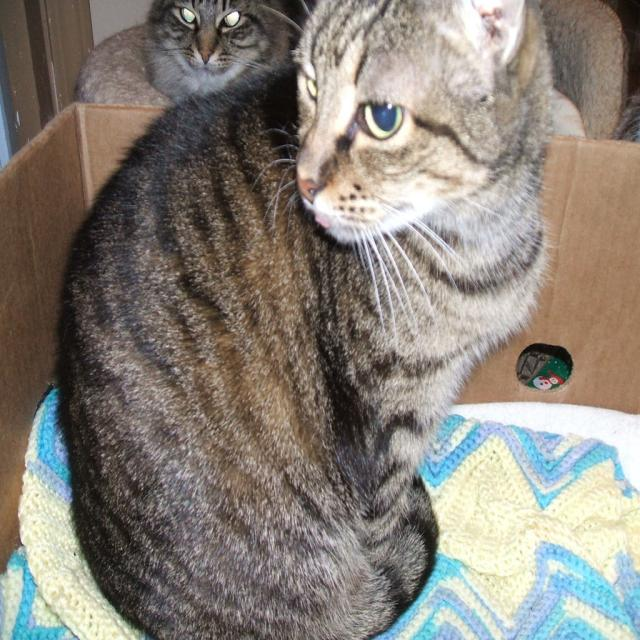Cat: (51, 0, 561, 638), (136, 0, 272, 100)
